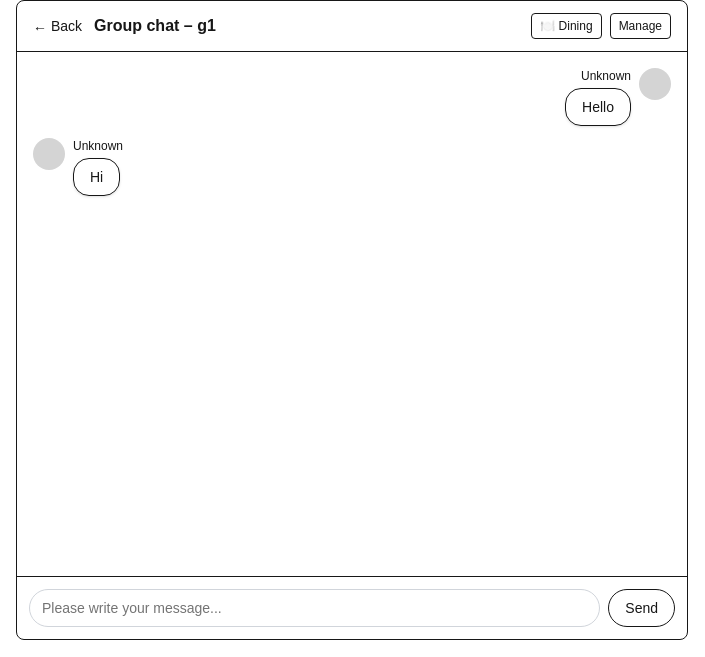
Scenario: restaurant search hints and no results
Click the button "🍽️ Dining" at (566, 26), box left=531, top=13, right=602, bottom=39
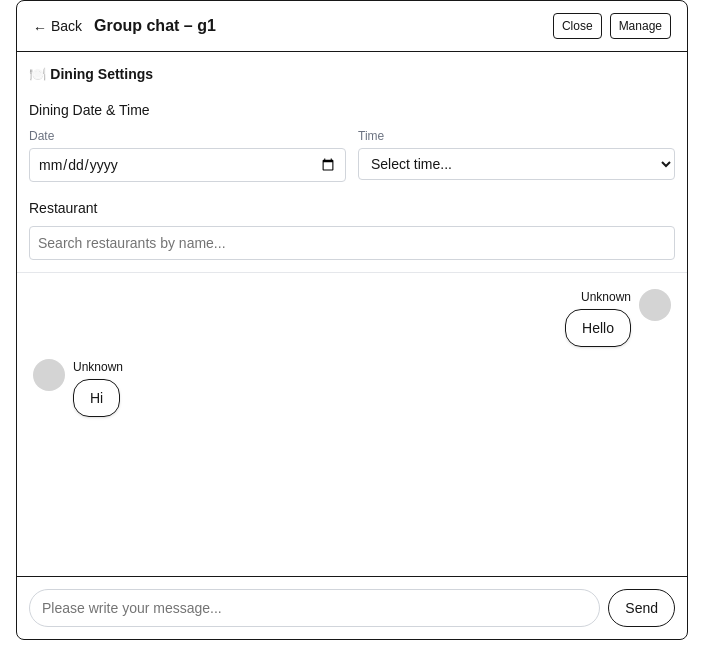
Type "a" into the field with placeholder "Search restaurants by name..." at (352, 243), box left=29, top=226, right=675, bottom=260
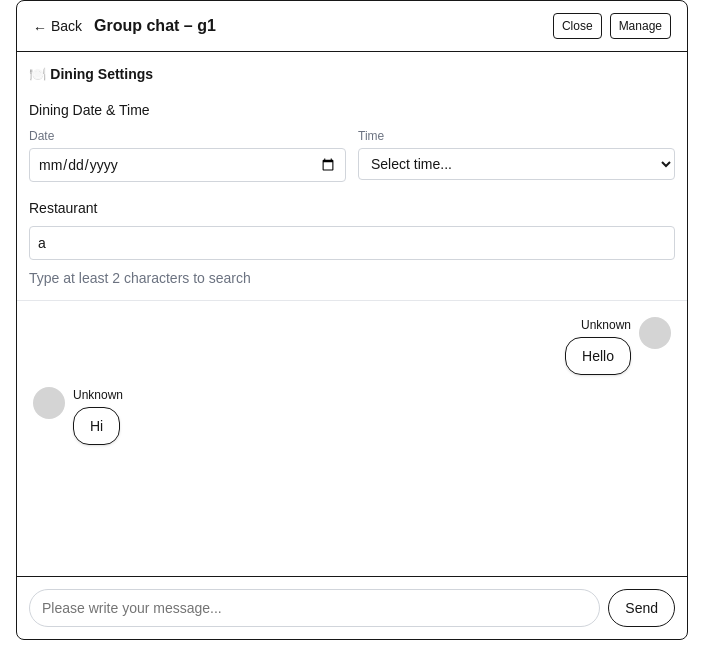
Expected: the text "Type at least 2 characters to search" is shown, left=29, top=270, right=251, bottom=286
Replace the text in the field with placeholder "Search restaurants by name..." with "zzzz" at (352, 243), box left=29, top=226, right=675, bottom=260
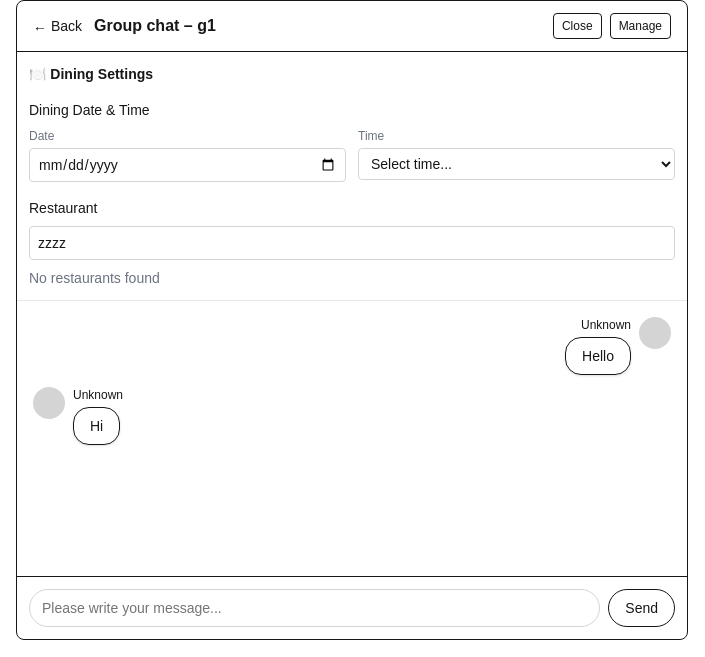
Expected: the text "No restaurants found" is shown, left=29, top=270, right=160, bottom=286
